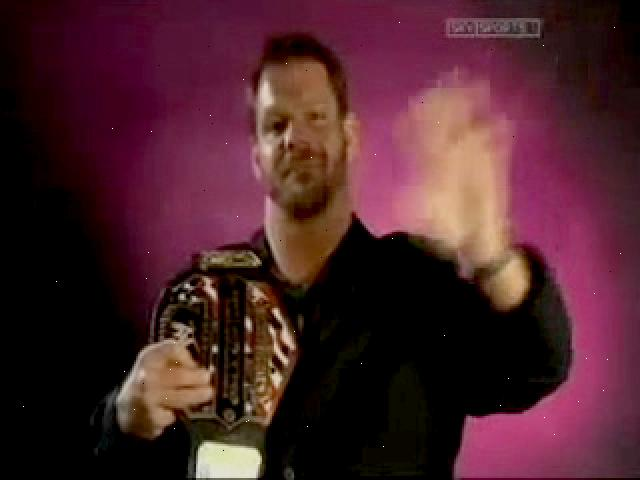L: (89, 34, 568, 478)
